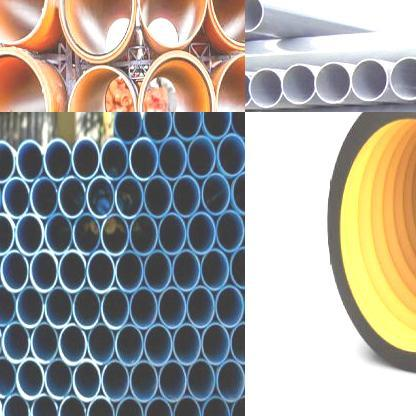pipe: (336, 112, 416, 356), (138, 50, 216, 112), (59, 0, 134, 60), (137, 0, 208, 48), (67, 66, 136, 112), (0, 49, 48, 112), (0, 0, 46, 44), (210, 0, 245, 51), (216, 52, 245, 112), (351, 58, 388, 102), (314, 63, 350, 104), (282, 64, 315, 104), (249, 68, 282, 108), (129, 137, 158, 181), (29, 249, 58, 293), (144, 249, 172, 294), (72, 287, 102, 329), (158, 137, 187, 180), (201, 173, 230, 216), (115, 176, 144, 219), (15, 214, 44, 257), (58, 175, 86, 219), (87, 250, 115, 294), (86, 176, 115, 218), (201, 248, 230, 290), (215, 286, 244, 328), (172, 324, 201, 366), (58, 324, 87, 366), (115, 324, 144, 366), (172, 249, 200, 292), (58, 250, 86, 293), (101, 287, 129, 330), (158, 360, 187, 401), (218, 133, 245, 177), (101, 138, 128, 182), (188, 136, 216, 178), (72, 138, 100, 180), (16, 140, 44, 182), (172, 176, 200, 218), (144, 176, 172, 218), (216, 210, 244, 252), (188, 212, 216, 254), (158, 212, 186, 254), (129, 214, 157, 256), (102, 214, 130, 256), (1, 250, 29, 292), (115, 250, 143, 292), (16, 286, 44, 328), (187, 286, 215, 328), (44, 286, 72, 328), (130, 287, 158, 329), (158, 288, 186, 330), (2, 322, 30, 364), (30, 322, 58, 364), (87, 322, 115, 364), (202, 323, 230, 365), (144, 324, 172, 366), (16, 358, 44, 400), (44, 358, 72, 400), (73, 360, 101, 402), (102, 360, 130, 402), (216, 360, 244, 402), (130, 361, 158, 403), (389, 57, 416, 100), (44, 139, 71, 182), (31, 178, 58, 220), (73, 213, 100, 255), (45, 213, 72, 255), (2, 178, 30, 218), (188, 360, 214, 400), (143, 112, 172, 143), (114, 112, 142, 144), (173, 112, 202, 140), (202, 112, 231, 139), (0, 356, 16, 398), (30, 393, 59, 416), (0, 140, 15, 183), (2, 393, 30, 416), (230, 246, 245, 288), (57, 395, 87, 416), (230, 323, 245, 364), (0, 286, 15, 326), (0, 214, 14, 256), (86, 396, 115, 416), (245, 0, 263, 32), (173, 396, 201, 416), (202, 396, 230, 416), (116, 396, 144, 416), (232, 171, 245, 214), (144, 397, 173, 416), (231, 112, 245, 138), (230, 396, 245, 416)
